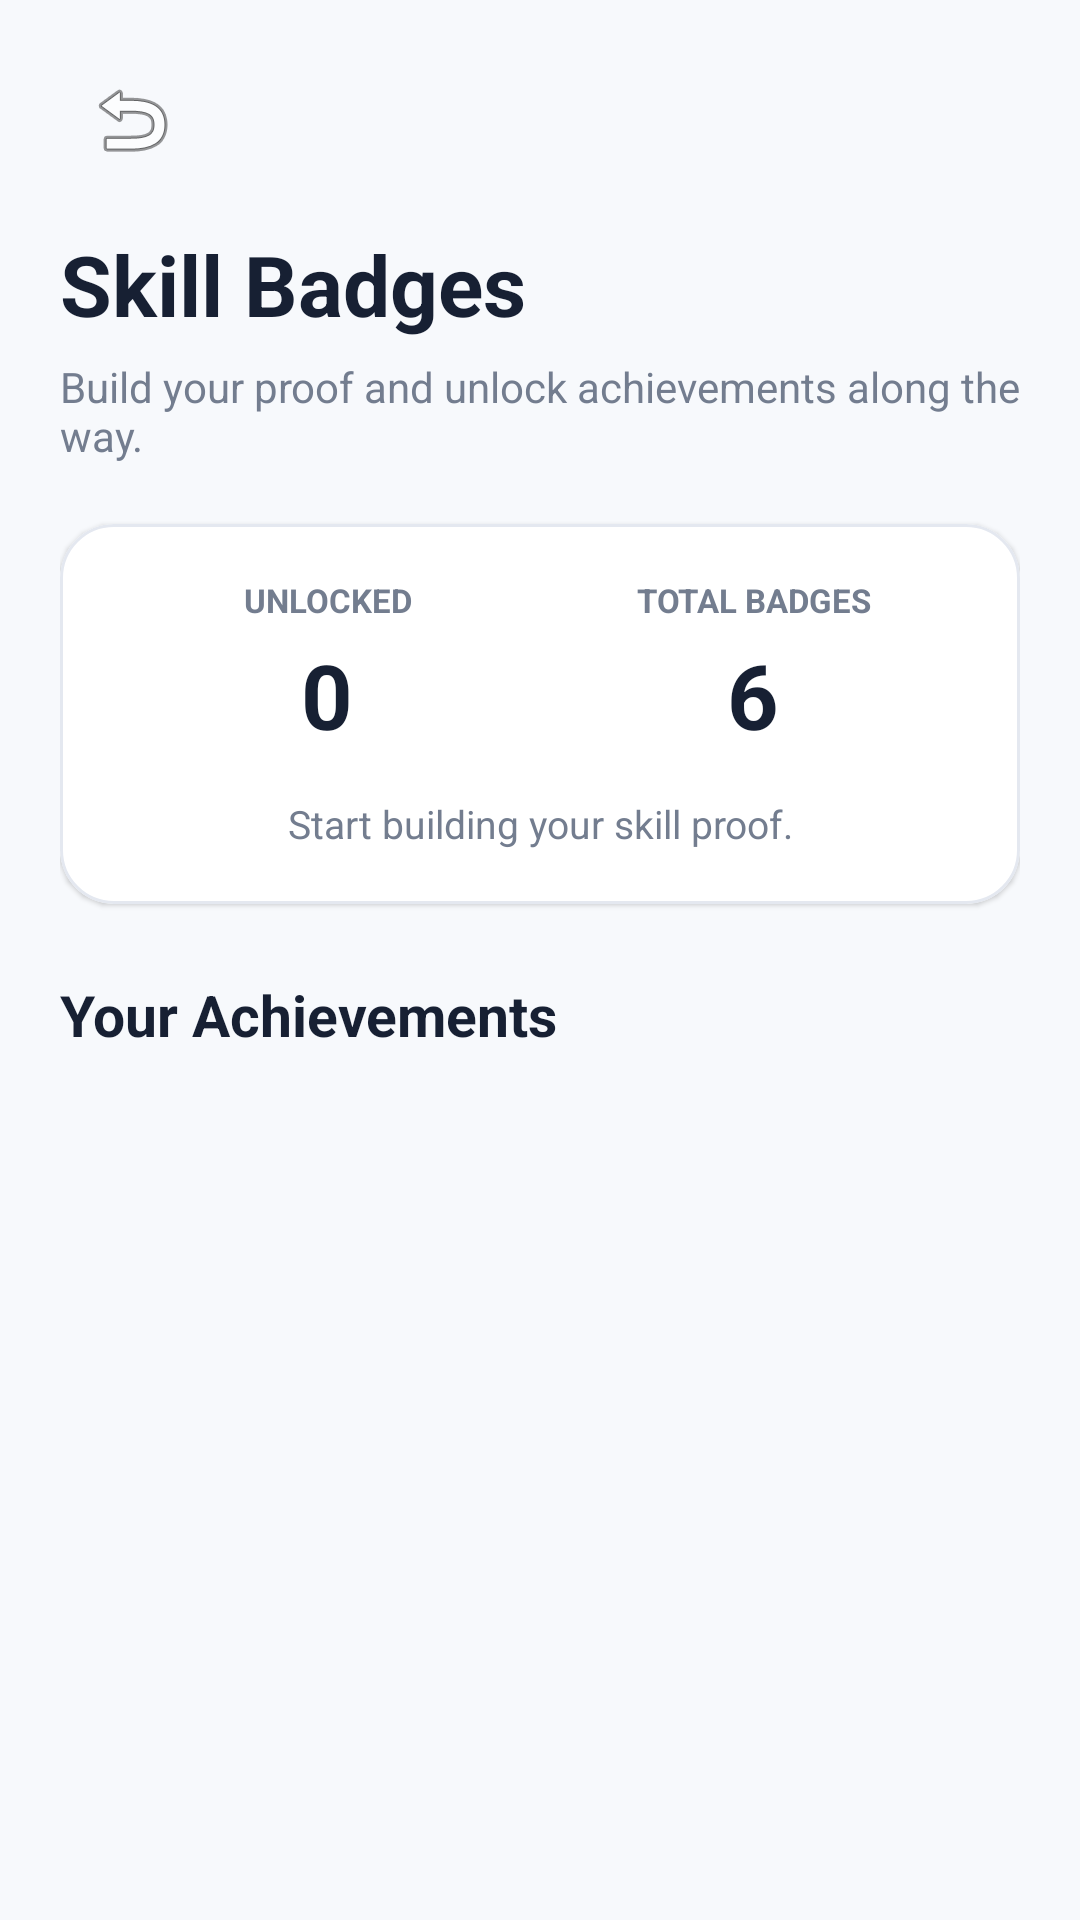

Screen size 1080px×1920px. Icon name, then its center in pixels as (x=x, y=y):
Back: (x=133, y=120)
